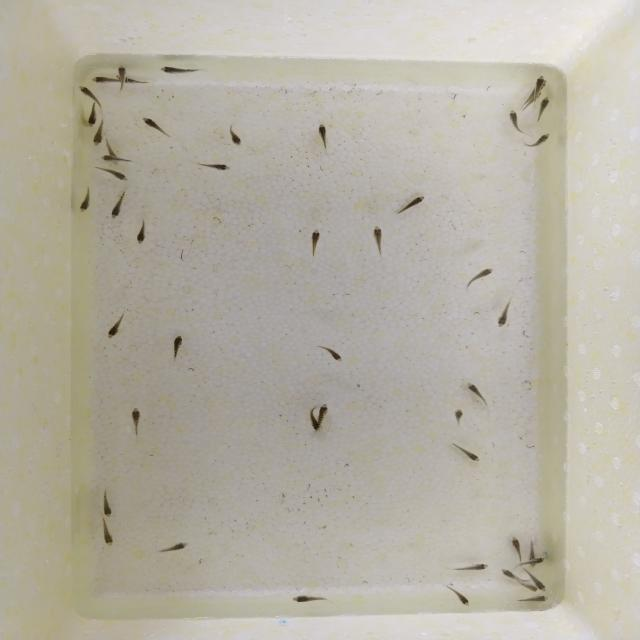fingerling: (458, 266, 501, 288), (449, 439, 481, 463), (492, 300, 519, 328), (104, 312, 128, 342), (314, 344, 349, 363), (465, 380, 491, 404), (289, 592, 332, 606), (76, 186, 96, 216), (127, 404, 144, 439), (107, 193, 129, 220), (157, 540, 194, 556), (397, 194, 428, 213), (520, 132, 552, 150), (370, 222, 386, 257), (140, 118, 171, 136), (167, 334, 188, 360), (452, 561, 490, 575), (449, 587, 474, 608), (133, 218, 151, 247), (196, 160, 238, 172), (306, 228, 324, 256), (315, 123, 332, 152), (534, 94, 552, 120), (98, 492, 116, 518), (528, 72, 550, 93), (99, 167, 131, 181), (226, 124, 244, 148), (100, 522, 116, 548), (157, 66, 197, 76), (90, 126, 108, 146), (114, 64, 130, 86), (508, 534, 524, 556), (517, 594, 551, 604), (498, 568, 522, 582), (306, 406, 318, 433), (507, 110, 524, 128), (449, 407, 466, 425), (77, 85, 96, 101), (518, 556, 546, 566), (318, 401, 333, 419), (531, 576, 549, 591), (87, 106, 100, 126), (100, 154, 131, 162), (90, 74, 114, 84)
